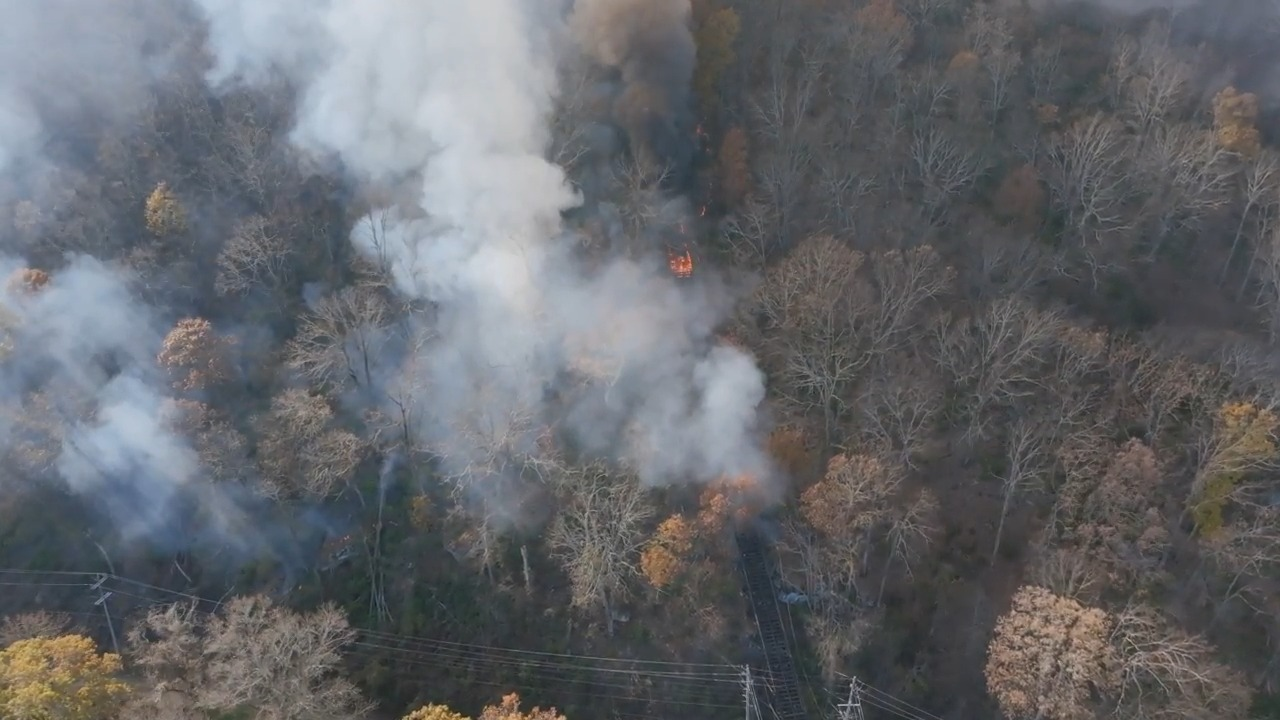fire: (668, 246, 693, 278), (698, 204, 707, 216)
smoke: (201, 0, 767, 482), (0, 255, 252, 549), (0, 0, 181, 172), (569, 0, 695, 185)
